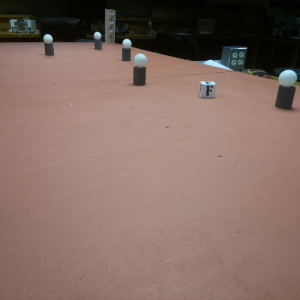obstacle: (275, 67, 297, 112), (133, 53, 147, 87), (42, 33, 55, 57), (121, 39, 133, 64), (92, 29, 103, 52)
